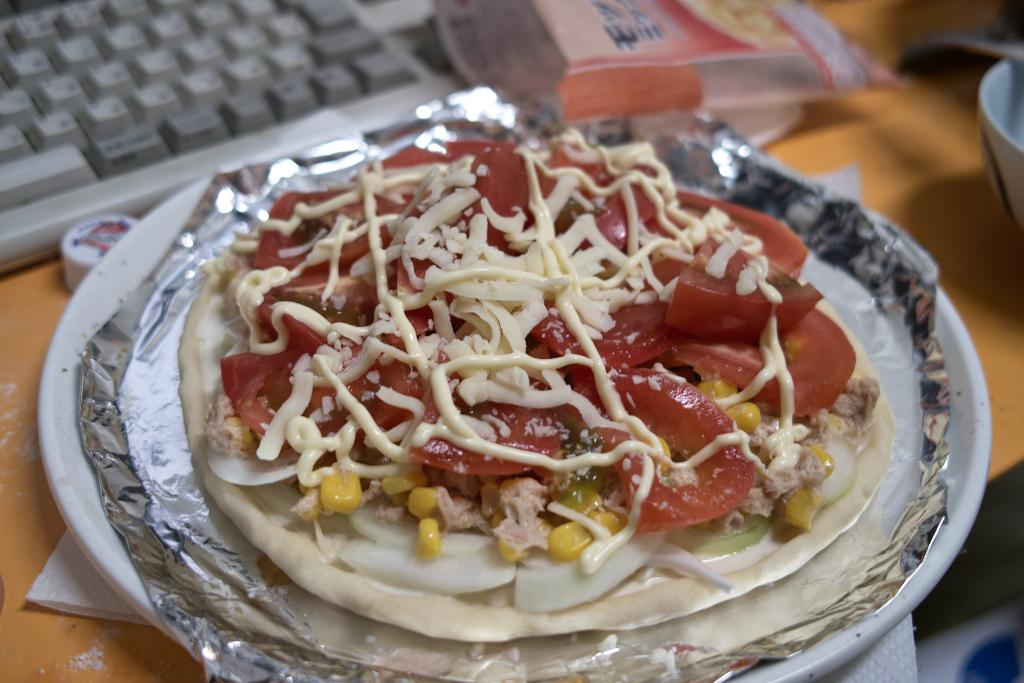pizza: (159, 110, 982, 669)
